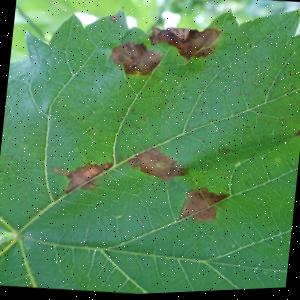Folha: (0, 0, 300, 300)
Fungo: (47, 136, 189, 207), (144, 22, 221, 66), (122, 144, 188, 185), (47, 156, 111, 198), (105, 38, 162, 80), (178, 186, 228, 227), (291, 123, 300, 141)
